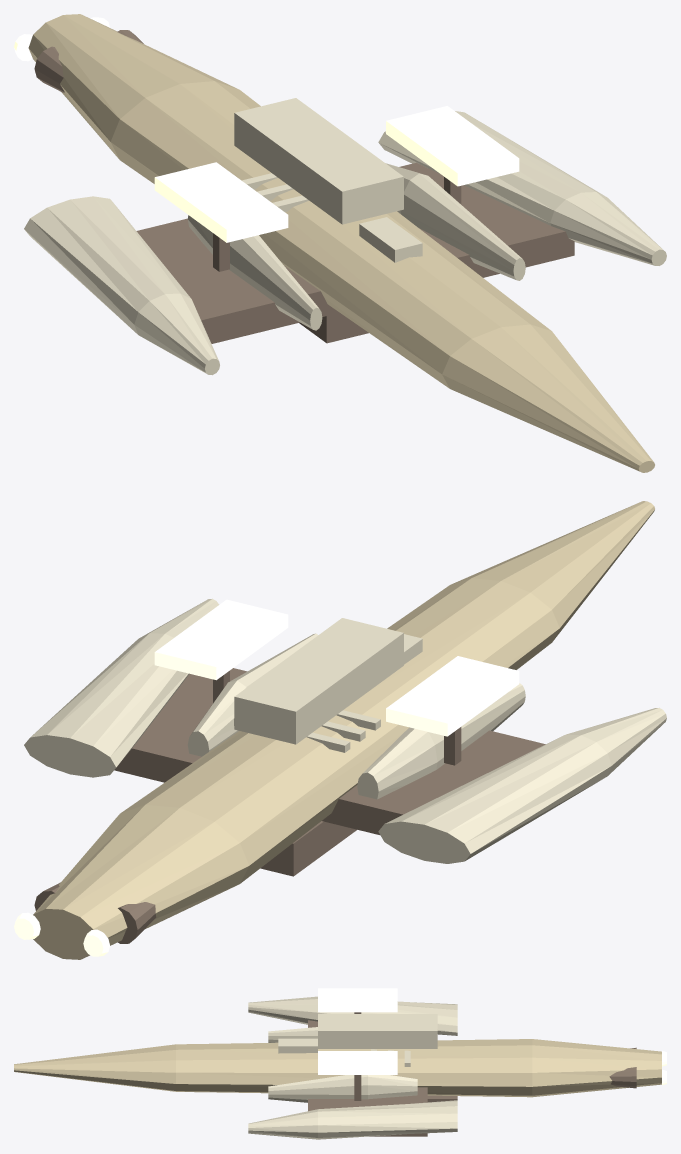
3 renders of one model, top to bottom at view 1: azimuth 30°, elevation 25°; view 2: azimuth 150°, elevation 25°; view 3: azimuth 270°, elevation 25°, orthographic. The views are drawn at different scales.
Size of the model in its own units: 6.32 by 1.87 by 13.49.
